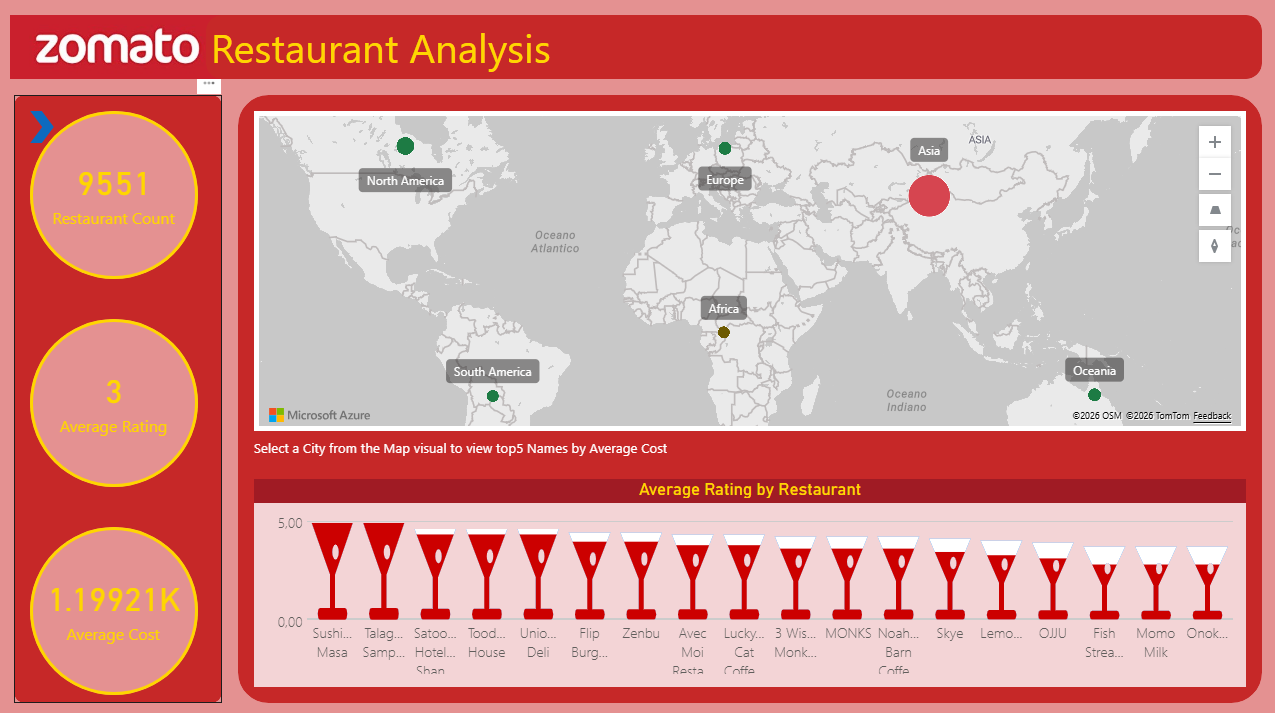

The page's visual inventory and layout, read from the dashboard file:
{"tool":"powerbi","page":{"name":"Overview","canvas":[1280,720],"ordinal":0},"visuals":[{"type":"shape","box":[16,96,208,608],"z":0},{"type":"shape","box":[240,96,1024,608],"z":1000},{"type":"azureMap","fields":{"Category":["Restaurants.Geo Gerarchia.Continent","Restaurants.Geo Gerarchia.Country","Restaurants.Geo Gerarchia.City"],"Size":["KPIs.Restaurant Count"],"Series":["Country.Continent"]},"box":[256,112,992,320],"z":2000},{"type":"PBI_CV_73744D90_4DC9_4F18_8BA5_EE8FA5C98035","title":"Average Rating by Restaurant ","fields":{"Category":["Restaurants.Restaurant Name"],"Values":["KPIs.Average Rating"]},"box":[256,480,992,208],"z":3000},{"type":"shape","box":[32,320,168,168],"z":4000},{"type":"shape","box":[32,112,168,168],"z":5000},{"type":"shape","box":[32,528,168,168],"z":6000},{"type":"advanceCardE03760C5AB684758B56AA29F9E6C257B","fields":{"mainMeasure":["KPIs.Restaurant Count"]},"box":[32,112,168,168],"z":7000},{"type":"advanceCardE03760C5AB684758B56AA29F9E6C257B","fields":{"mainMeasure":["KPIs.Average Rating"]},"box":[32,320,168,168],"z":8000},{"type":"advanceCardE03760C5AB684758B56AA29F9E6C257B","fields":{"mainMeasure":["KPIs.Average Cost"]},"box":[32,528,168,168],"z":9000},{"type":"shape","box":[256,432,992,32],"z":10000},{"type":"image","box":[0,16,240,64],"z":11000},{"type":"shape","box":[208,16,1056,64],"z":12000},{"type":"shape","box":[32,112,24,32],"z":13000}]}

Visuals, with their boxes in screenshot pixels (x1, y1, x2, y2), scaled from the page's 1280x720 canvas onto the 1275x713 screenshot:
shape: l=16, t=95, r=223, b=697
shape: l=239, t=95, r=1259, b=697
azureMap - Restaurants.Geo Gerarchia.Continent x Restaurants.Geo Gerarchia.Country: l=255, t=111, r=1243, b=428
"Average Rating by Restaurant " PBI_CV_73744D90_4DC9_4F18_8BA5_EE8FA5C98035: l=255, t=475, r=1243, b=681
shape: l=32, t=317, r=199, b=483
shape: l=32, t=111, r=199, b=277
shape: l=32, t=523, r=199, b=689
advanceCardE03760C5AB684758B56AA29F9E6C257B - KPIs.Restaurant Count: l=32, t=111, r=199, b=277
advanceCardE03760C5AB684758B56AA29F9E6C257B - KPIs.Average Rating: l=32, t=317, r=199, b=483
advanceCardE03760C5AB684758B56AA29F9E6C257B - KPIs.Average Cost: l=32, t=523, r=199, b=689
shape: l=255, t=428, r=1243, b=459
image: l=0, t=16, r=239, b=79
shape: l=207, t=16, r=1259, b=79
shape: l=32, t=111, r=56, b=143
